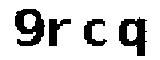9: (12, 5, 46, 49)
c: (77, 17, 114, 49)
q: (117, 16, 157, 60)
r: (47, 16, 74, 52)
